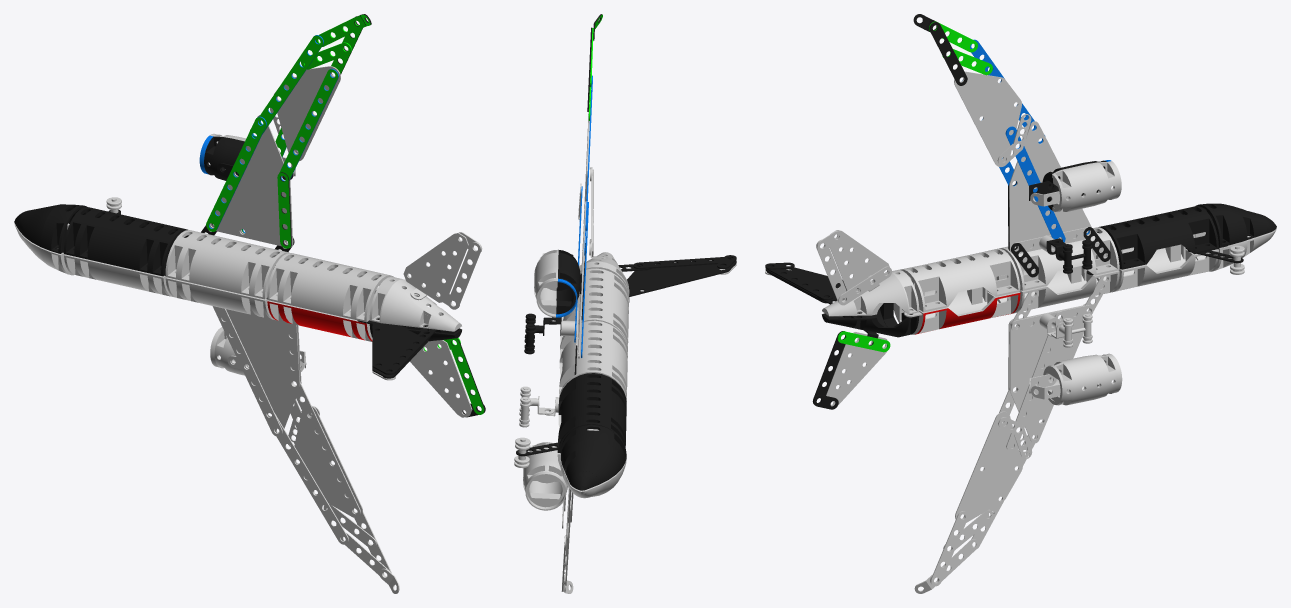
File: airplus_787.glb
3 renders of one model, left to right at view 1: azimuth 30°, elevation 25°; view 2: azimuth 150°, elevation 25°; view 3: azimuth 270°, elevation 25°, orthographic. The views are drawn at different scales.
Visible parts, largest first — view 1: Symétrie de Symétrie de D088.2, Symétrie de D088.2, D088.1, D117.1, Symétrie de D117 modifié.1, Symétrie de D144.1, =>[0:1:1:36], D116.1, Symétrie de D116 modified.1, =>[0:1:1:31], D120.1, Symétrie de Symétrie de D088.1 (+16 smaller); view 2: D088.1, Symétrie de D088.2, D120.1, Symétrie de Symétrie de D088.2, Symétrie de D142.1 (×2), D278.1, D142.1, Symétrie de Symétrie de D142.1, Symétrie de nez avion.1, A413.2, Symétrie de D144.1, Train d'atterissage central.1 (+4 smaller); view 3: Symétrie de Symétrie de D088.2, D088.1, D117.1, Symétrie de D117 modifié.1, Symétrie de D116 modified.1, D116.1, Symétrie de Symétrie de Symétrie de D088.1, Symétrie de Symétrie de D142.1, Symétrie de D142.1, Symétrie de D088.1, Symétrie de D088.2, Symétrie de Symétrie de D088.1 (+11 smaller).
Part boxes in pixels (x1,y1,x2,y2): Symétrie de Symétrie de D088.2: (267, 253, 394, 322); Symétrie de D088.2: (165, 230, 290, 299); D088.1: (64, 207, 188, 276); D117.1: (209, 115, 292, 247); Symétrie de D117 modifié.1: (222, 309, 301, 432); Symétrie de D144.1: (369, 276, 461, 331); =>[0:1:1:36]: (403, 233, 468, 302); D116.1: (274, 66, 340, 161); Symétrie de D116 modified.1: (294, 405, 362, 517); =>[0:1:1:31]: (410, 340, 472, 417); D120.1: (14, 204, 87, 253); Symétrie de Symétrie de D088.1: (165, 277, 274, 319); D088.1: (557, 373, 626, 453); Symétrie de D088.2: (559, 320, 627, 401); D120.1: (561, 424, 626, 490); Symétrie de Symétrie de D088.2: (560, 268, 628, 350); Symétrie de D142.1 (×2): (534, 249, 568, 510); D278.1: (627, 260, 736, 296); D142.1: (556, 250, 580, 317); Symétrie de Symétrie de D142.1: (523, 442, 547, 510); Symétrie de nez avion.1: (560, 458, 626, 498); A413.2: (633, 257, 732, 269); Symétrie de D144.1: (579, 252, 629, 295); Train d'atterissage central.1: (524, 313, 543, 354); Symétrie de Symétrie de D088.2: (900, 248, 1020, 312); D088.1: (1097, 206, 1218, 269); D117.1: (1009, 121, 1091, 253); Symétrie de D117 modifié.1: (1009, 305, 1090, 443); Symétrie de D116 modified.1: (955, 411, 1022, 522); D116.1: (954, 71, 1021, 166); Symétrie de Symétrie de Symétrie de D088.1: (893, 277, 1020, 334); Symétrie de Symétrie de D142.1: (1052, 355, 1122, 405); Symétrie de D142.1: (1052, 161, 1121, 212); Symétrie de D088.1: (1096, 234, 1218, 292); Symétrie de D088.2: (997, 227, 1119, 290); Symétrie de Symétrie de D088.1: (996, 255, 1119, 313).
Bounding box in the file's own units: 0.2159 × 0.5041 × 0.4132.
